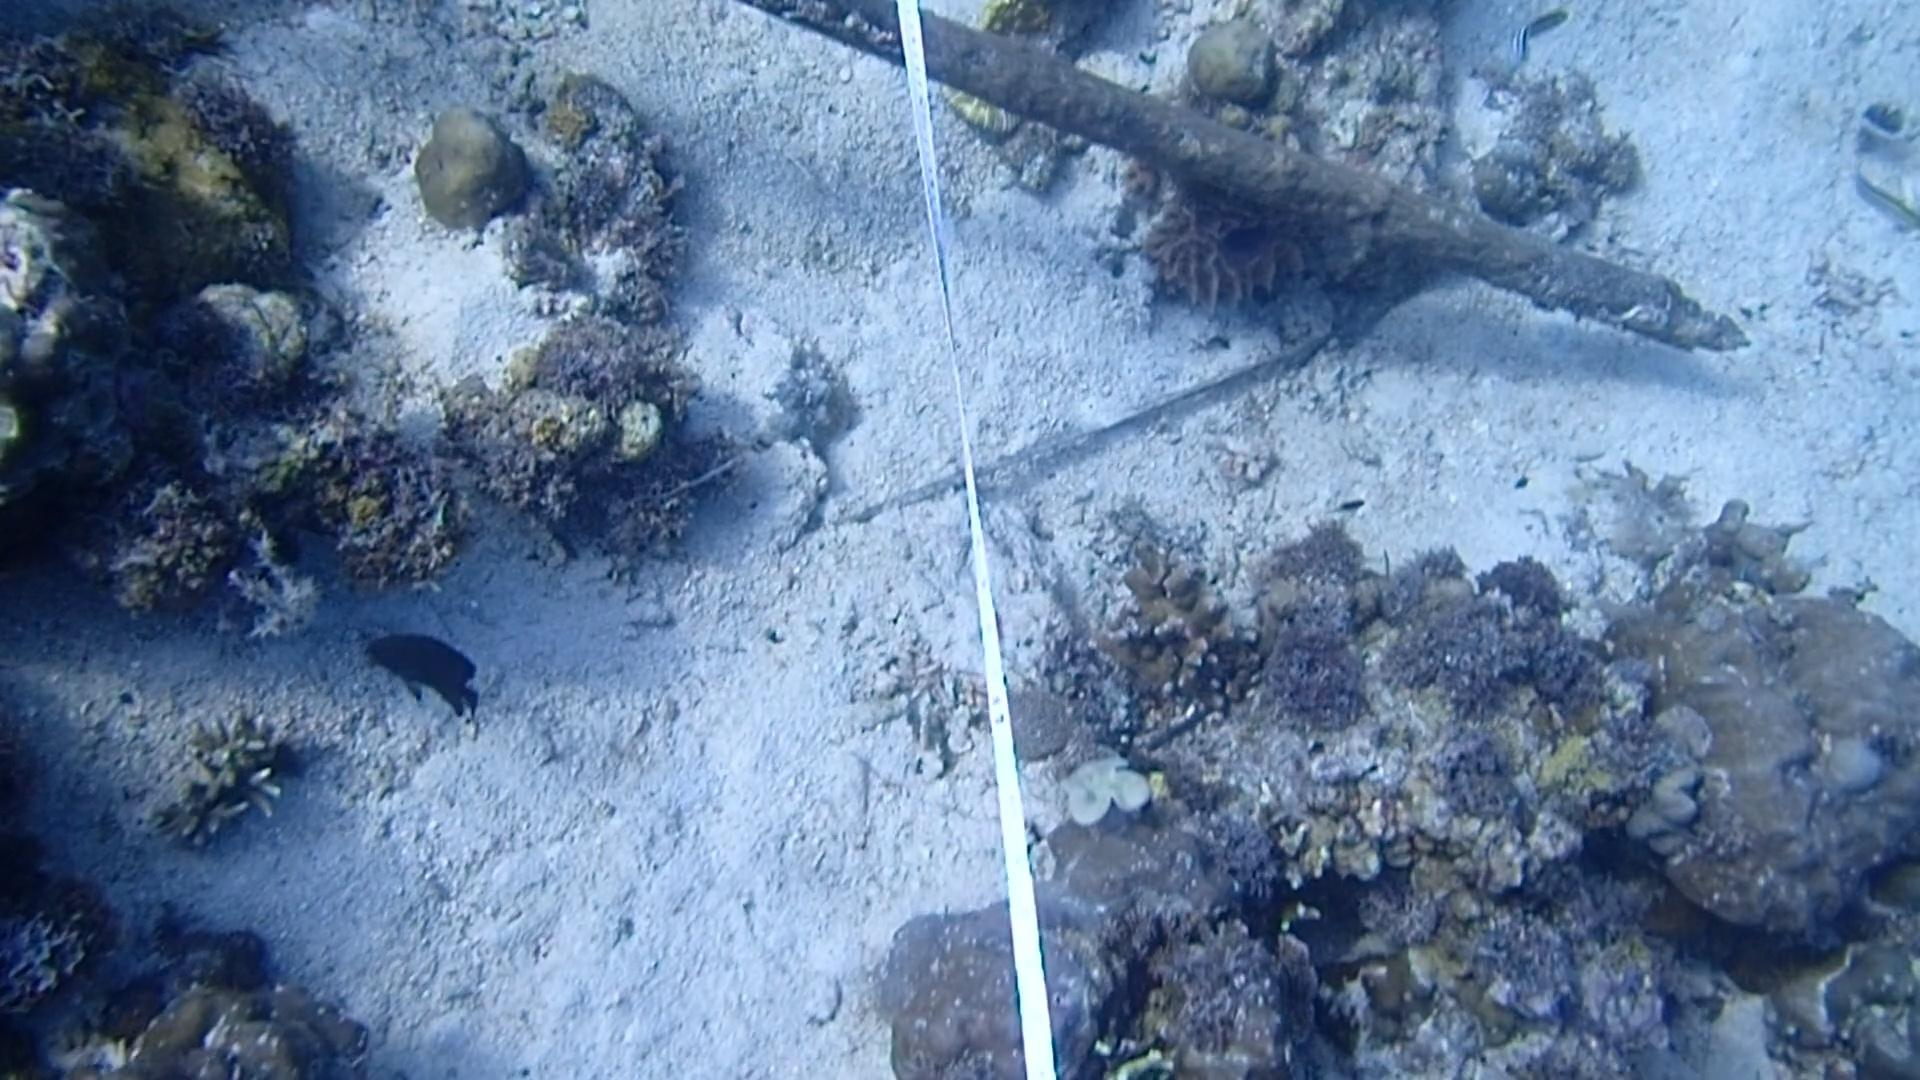Dark Fish: (357, 620, 497, 717)
Striped Fish: (1846, 153, 1920, 247), (1502, 0, 1578, 73)
